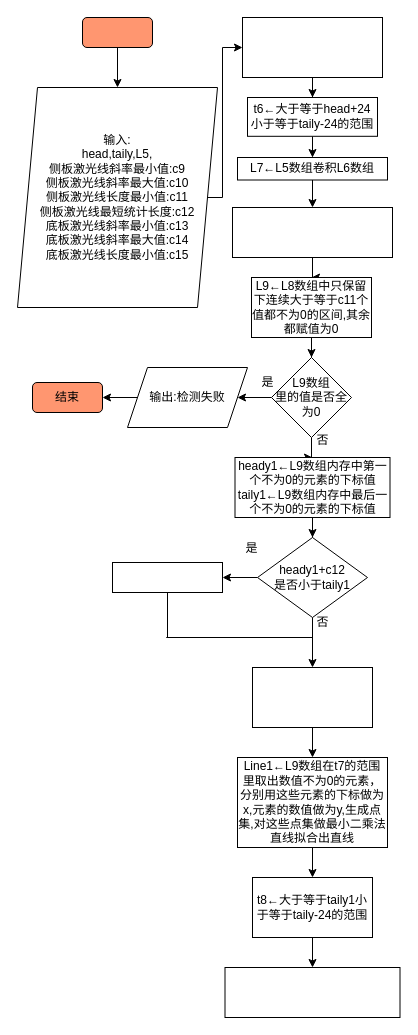
Image size: 418x1035. Some labels were removed from this diagram. Here are the shapes that lost their labels. From the top down, the centre of each, then its label:
At (x=117, y=32): "开始步骤2".
At (x=312, y=47): "L6←创建一个1×40的数组,把数组前15个元素值设为1,中件10个元素值设为0,后15个元素值设为-1".
At (x=312, y=232): "L8←L7数组除了在t6范围中元素值小于c9或者值大于c10之外,数组其他的元素值设为0".
At (x=167, y=577): "taily1←heady1+c12".
At (x=312, y=697): "t7←大于等于heady1小于等于taily1的范围".
At (x=312, y=992): "L10←L7数组除了在t8范围中元素值小于c13或者值大于c14之外,数组其他的元素值设为0".
